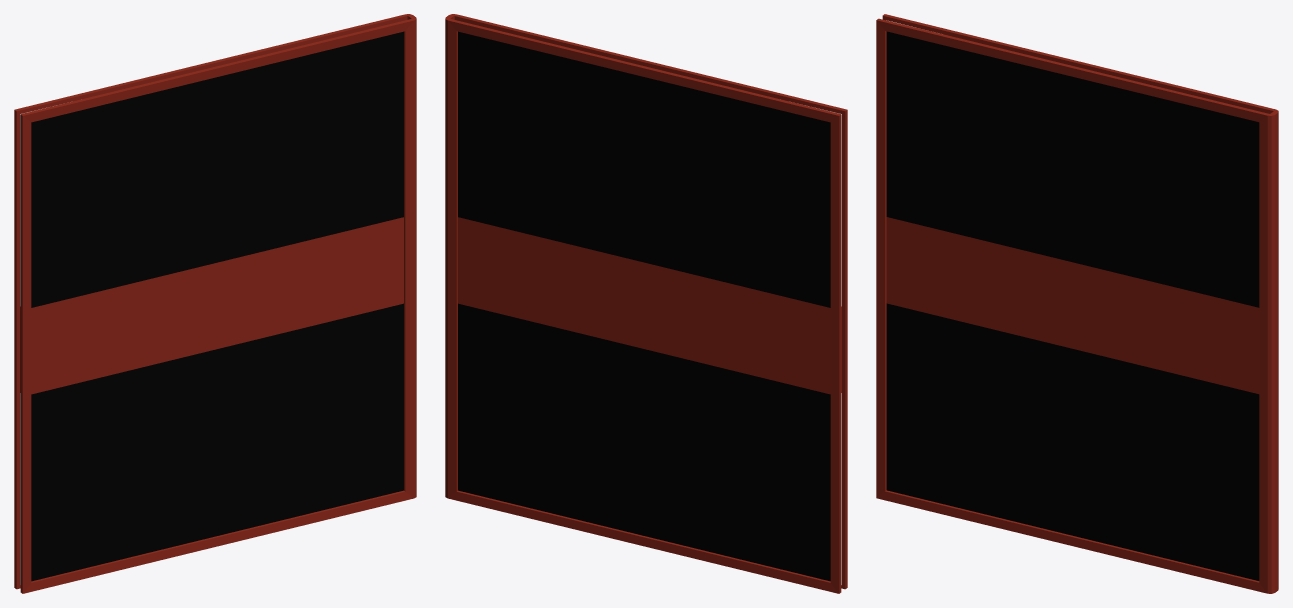
The model's file is menu_card.fbx.
The picture shows the model from 3 angles, left to right: view 1: azimuth 30°, elevation 25°; view 2: azimuth 150°, elevation 25°; view 3: azimuth 330°, elevation 25°; orthographic projection.
Parts seen in each view (by area): view 1: menu_card; view 2: menu_card; view 3: menu_card.
Part boxes in pixels (box(x1,y1,x2,y2)): menu_card: box(14, 14, 416, 593); menu_card: box(445, 14, 847, 593); menu_card: box(876, 14, 1278, 593).
Size of the model in its own units: 0.8449 by 0.9745 by 0.0314.
